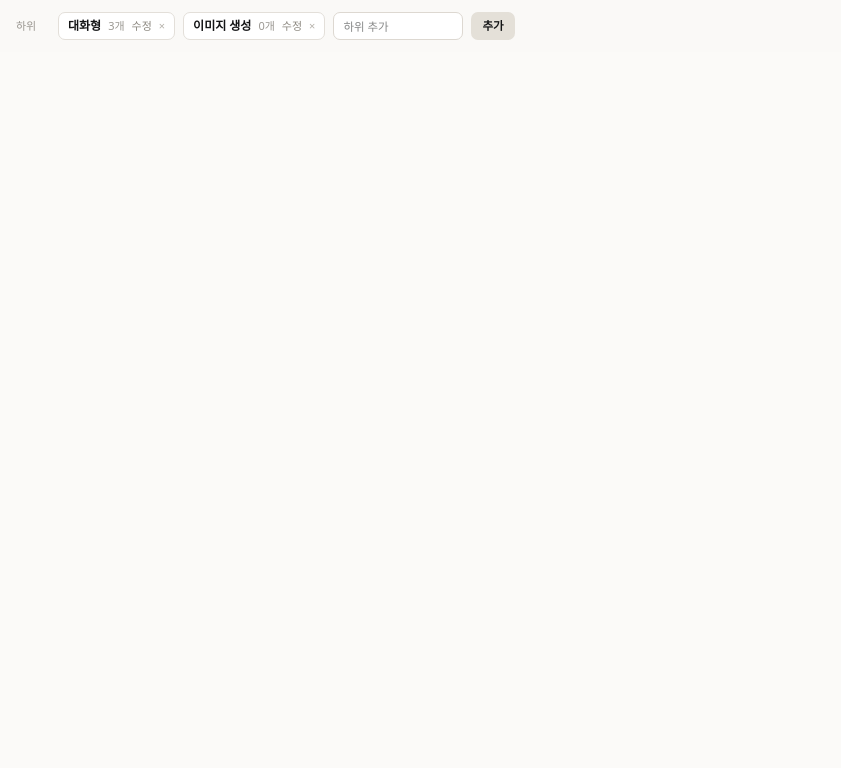
Scenario: SubCategoryRow — 하위 추가 › 실패하면 문구를 그대로 띄우고 적던 이름을 그대로 둔다
This screenshot has width=841, height=768.
Type "대화형" into the field named "새 하위 카테고리".
click(398, 26); type("대화형")  # box 333,12 -> 463,40
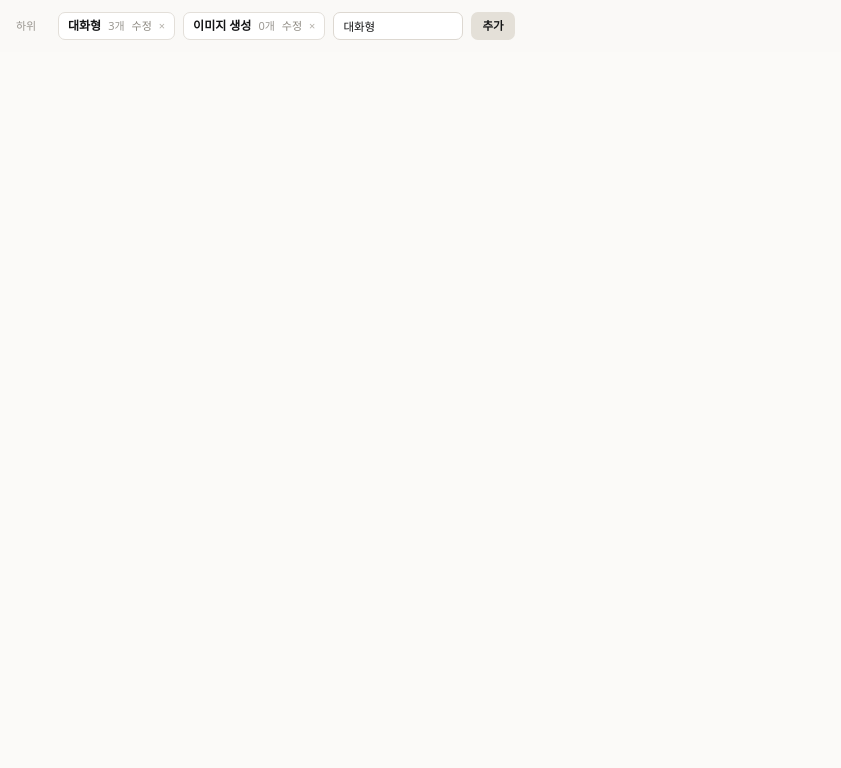
Click the button with aria-label "하위 카테고리 추가".
click(493, 26)  # box 471,12 -> 515,40
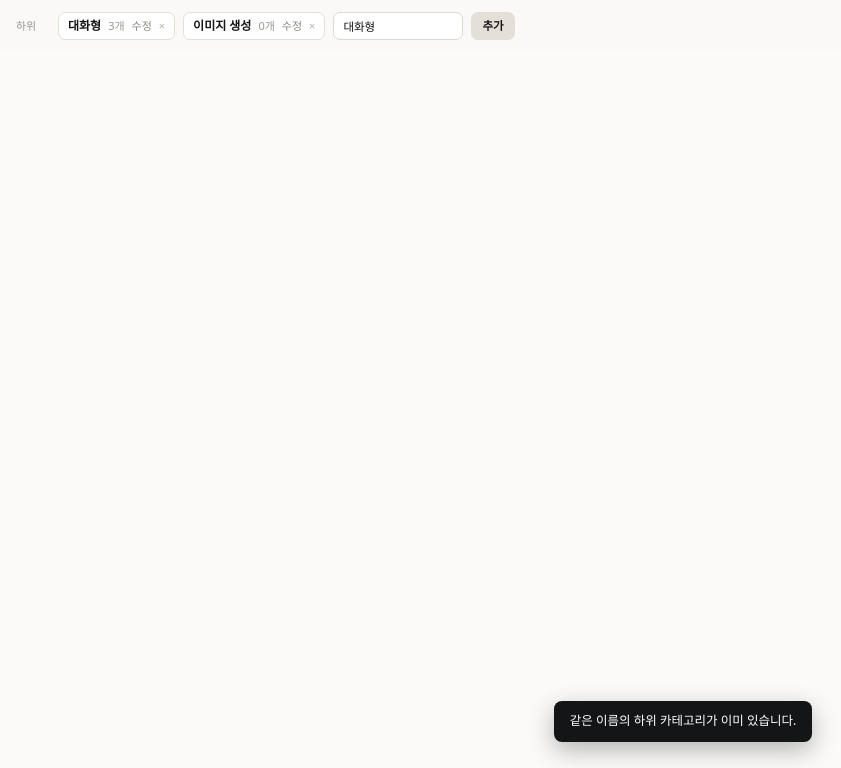
Expected: the message reads "같은 이름의 하위 카테고리가 이미 있습니다.", 570,712 -> 796,729
